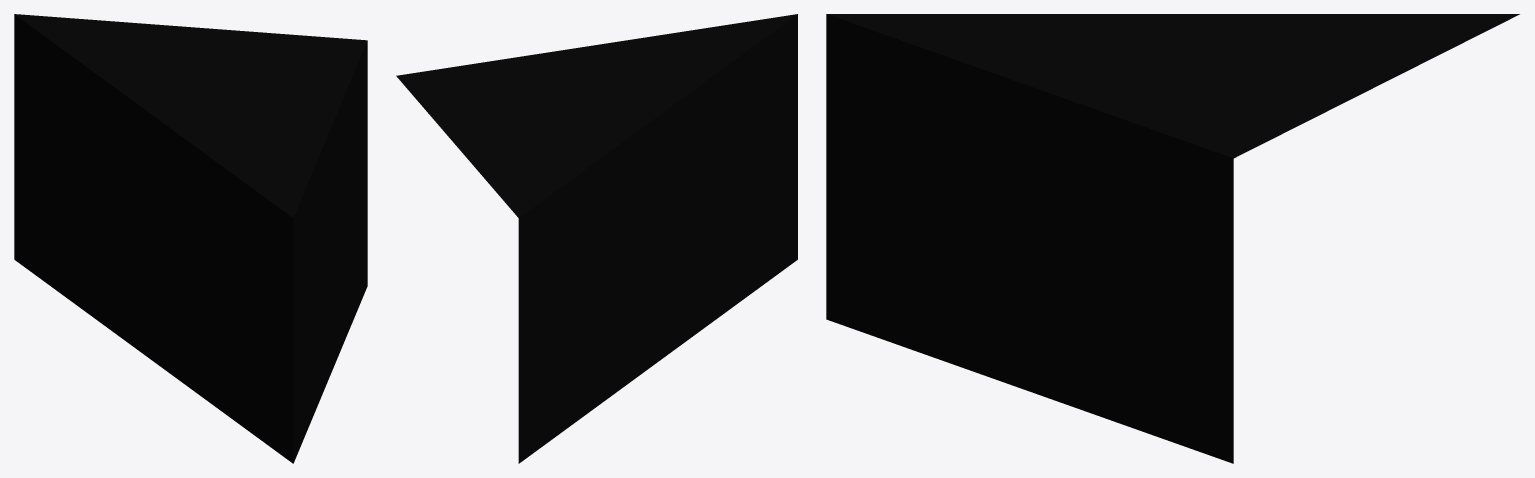
The picture shows the model from 3 angles, left to right: view 1: azimuth 30°, elevation 25°; view 2: azimuth 150°, elevation 25°; view 3: azimuth 270°, elevation 25°; orthographic projection. The views are drawn at different scales.
Parts seen in each view (by area): view 1: Joint_0_Object_0; view 2: Joint_0_Object_0; view 3: Joint_0_Object_0.
Part boxes in pixels (<box>): Joint_0_Object_0: <box>14,14,367,463</box>; Joint_0_Object_0: <box>396,14,797,463</box>; Joint_0_Object_0: <box>826,14,1519,463</box>.
Bounding box in the file's own units: 436 × 430 × 886.
1 material, 1 textured.
